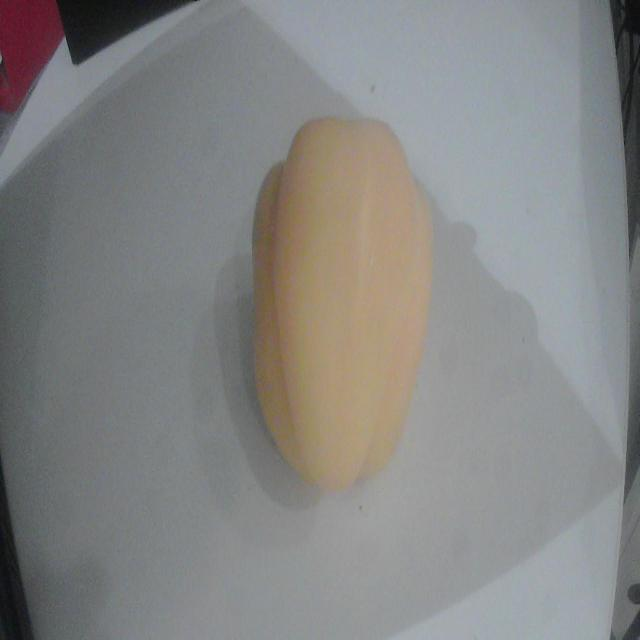Bell Pepper: (253, 117, 432, 493)
